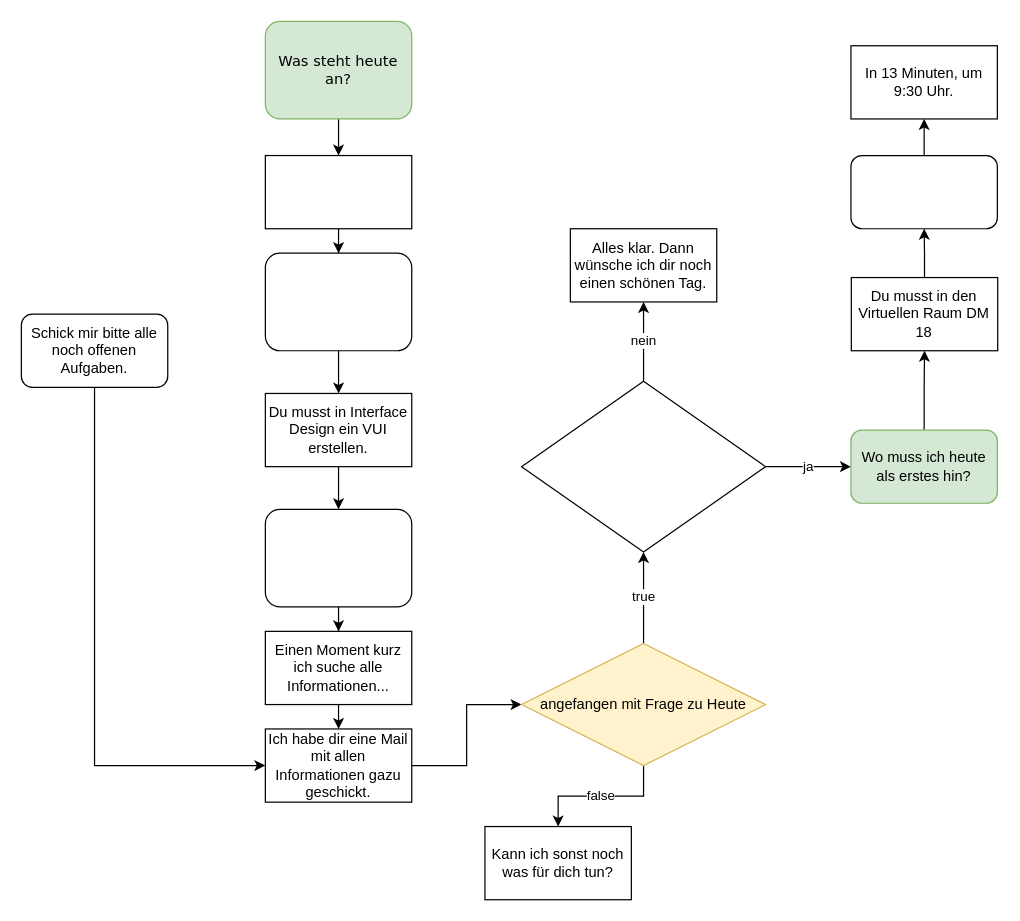
Some shapes in this 1020 by 921 pixel diagram are drawn without their labels. Each missing label, with the centre of its shape:
"Brauchst du noch andere Informationen für deinen heutigen Tag" belongs at (643,466).
"Du hast heute 3 Veranstaltungen und eine Abgabe" belongs at (338,191).
"Schick mir bitte alle Infos dazu." belongs at (338,557).
"Und wann geht es da los?" belongs at (923,191).
"Welche Abgabe?" belongs at (338,301).
